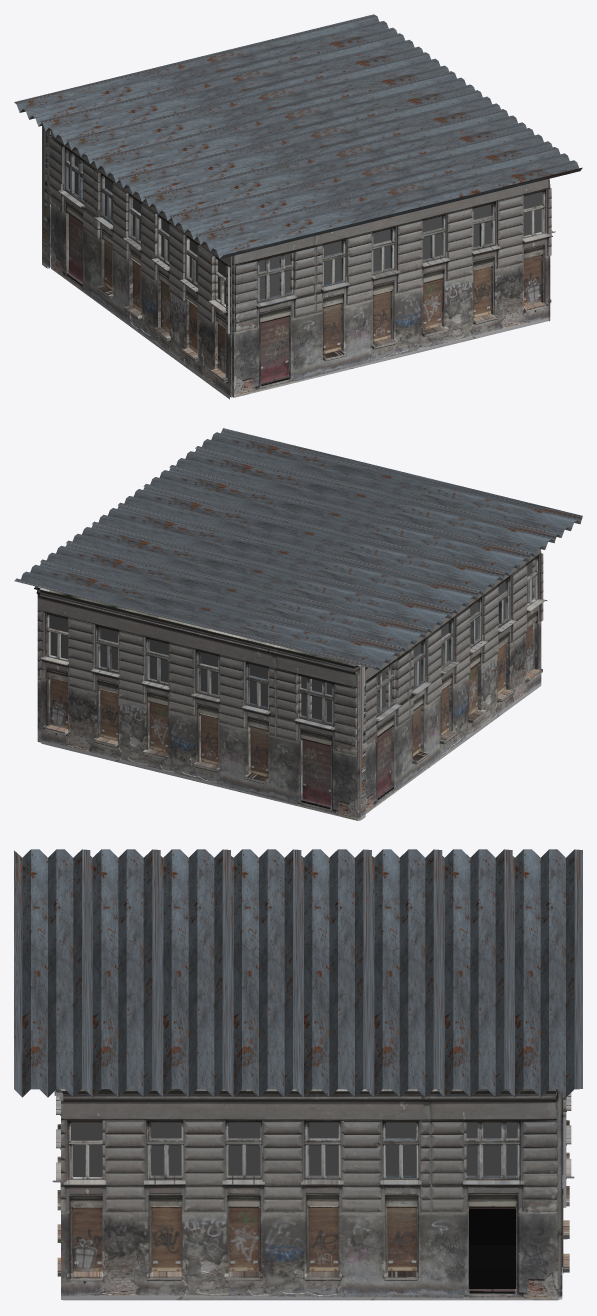
Rendered from EDI005.fbx.
The picture shows the model from 3 angles, top to bottom: view 1: azimuth 30°, elevation 25°; view 2: azimuth 150°, elevation 25°; view 3: azimuth 270°, elevation 25°; orthographic projection. The views are drawn at different scales.
Visible parts, largest first — view 1: TECHO002, TexturesCom_BuildingsHouseOld0216_S.002, TexturesCom_BuildingsHouseOld0216_S.003, TexturesCom_BuildingsHouseOld0216_S.001; view 2: TECHO002, TexturesCom_BuildingsHouseOld0216_S.001, TexturesCom_BuildingsHouseOld0216_S.003, TexturesCom_BuildingsHouseOld0216_S; view 3: TECHO002, TexturesCom_BuildingsHouseOld0216_S, TexturesCom_BuildingsHouseOld0216_S.001, TexturesCom_BuildingsHouseOld0216_S.002.
Boxes of the visible parts, x1,y1,x2,y2 form: TECHO002: (14,14,582,258); TexturesCom_BuildingsHouseOld0216_S.002: (229,179,552,397); TexturesCom_BuildingsHouseOld0216_S.003: (49,130,229,399); TexturesCom_BuildingsHouseOld0216_S.001: (42,125,49,268); TECHO002: (14,428,582,670); TexturesCom_BuildingsHouseOld0216_S.001: (39,588,365,820); TexturesCom_BuildingsHouseOld0216_S.003: (356,548,547,813); TexturesCom_BuildingsHouseOld0216_S: (34,586,47,742); TECHO002: (14,849,582,1097); TexturesCom_BuildingsHouseOld0216_S: (61,1089,562,1300); TexturesCom_BuildingsHouseOld0216_S.001: (562,1093,574,1273); TexturesCom_BuildingsHouseOld0216_S.002: (52,1089,63,1276).
Bounding box in the file's own units: 24.24 × 10.49 × 24.33.
4 materials, 2 textured.
